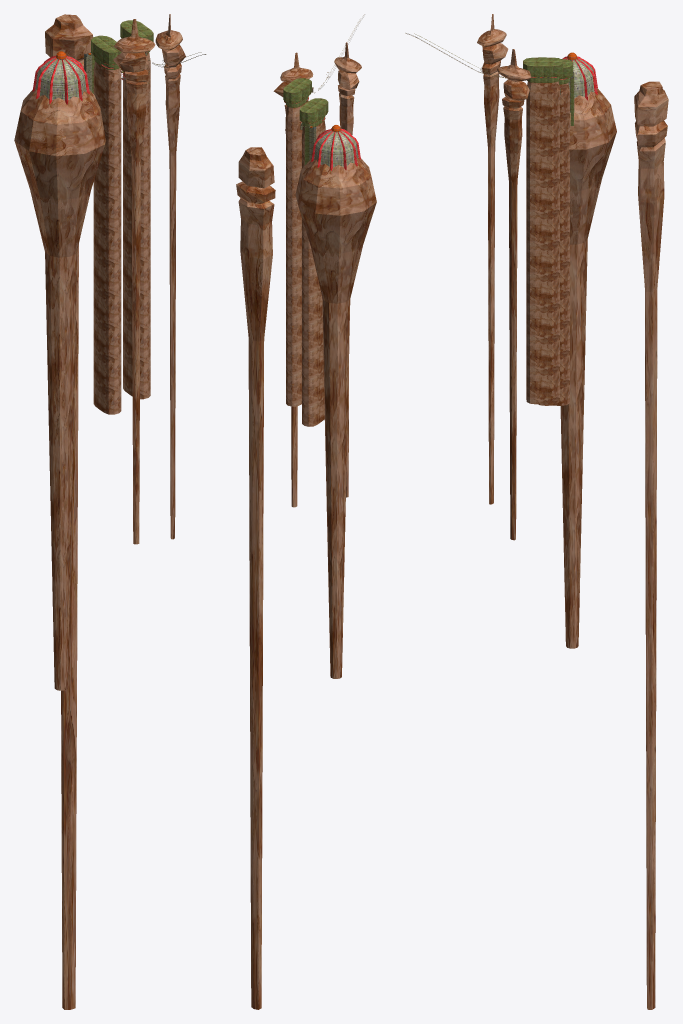
The model's file is STG08_ON_08.obj.
3 renders of one model, left to right at view 1: azimuth 30°, elevation 25°; view 2: azimuth 150°, elevation 25°; view 3: azimuth 270°, elevation 25°, orthographic. The views are drawn at different scales.
Parts seen in each view (by area): view 1: Object_2; view 2: Object_2; view 3: Object_2.
Boxes of the visible parts, box(x1,y1,x2,y2) form: Object_2: box(14, 14, 206, 1009); Object_2: box(236, 14, 376, 1009); Object_2: box(405, 14, 668, 1009).
Size of the model in its own units: 6819 by 50573 by 12261.
